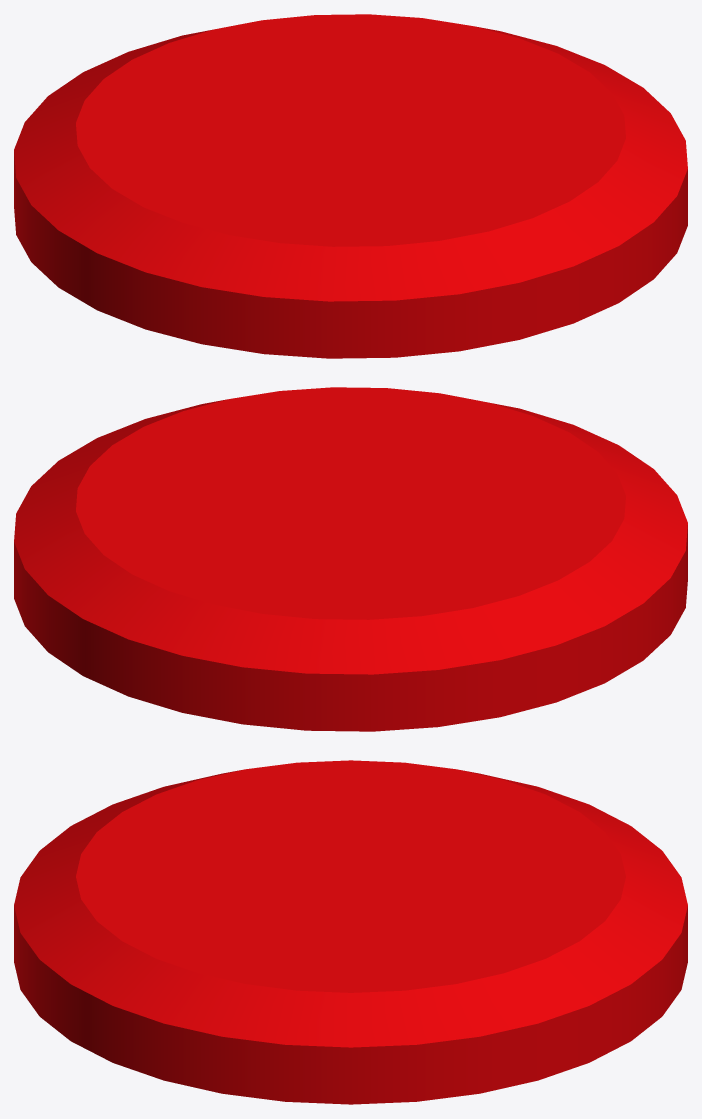
Rendered from SM_ButtonPress.fbx.
3 views of the same model, one above another, from view 1: azimuth 30°, elevation 25°; view 2: azimuth 150°, elevation 25°; view 3: azimuth 270°, elevation 25° (orthographic).
Parts seen in each view (by area): view 1: SM_ButtonPress; view 2: SM_ButtonPress; view 3: SM_ButtonPress.
Part boxes in pixels (left/top/right/bottom): SM_ButtonPress: left=14, top=14, right=687, bottom=358; SM_ButtonPress: left=14, top=387, right=687, bottom=731; SM_ButtonPress: left=14, top=760, right=687, bottom=1104.
Bounding box in the file's own units: 60.74 × 8.5 × 60.74.
